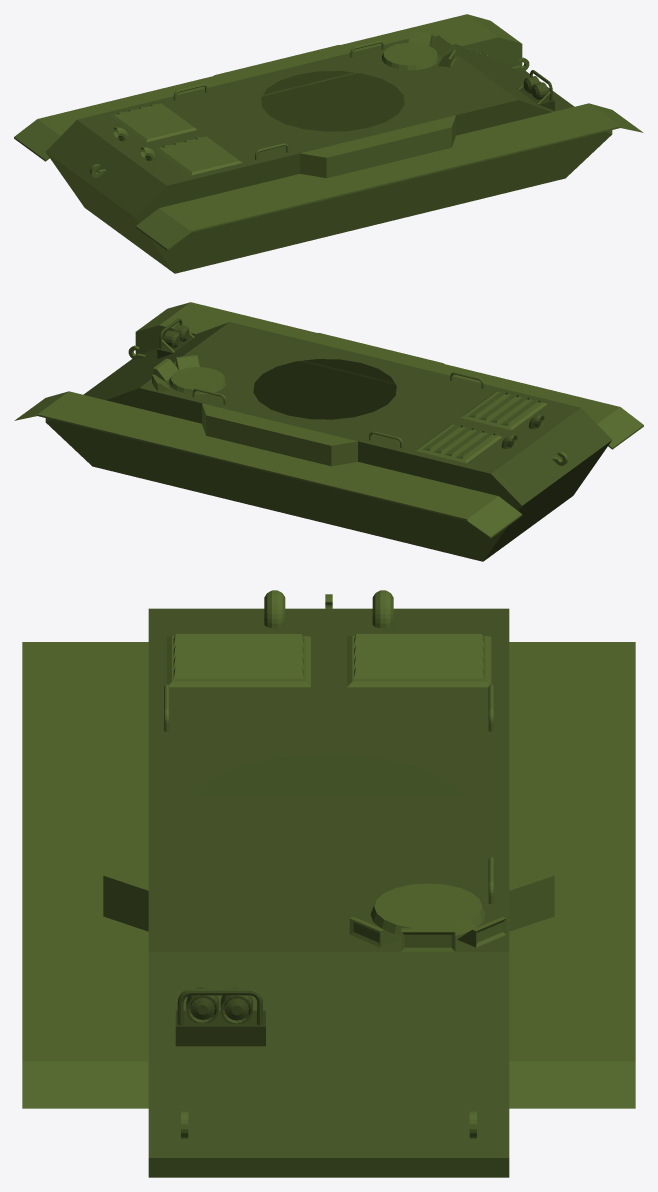
The model's file is body.obj.
3 renders of one model, top to bottom at view 1: azimuth 30°, elevation 25°; view 2: azimuth 150°, elevation 25°; view 3: azimuth 270°, elevation 25°, orthographic. The views are drawn at different scales.
Parts seen in each view (by area): view 1: alvaz3e2-.036; view 2: alvaz3e2-.036; view 3: alvaz3e2-.036.
Part boxes in pixels (box(x1,y1,x2,y2)): alvaz3e2-.036: box(14, 14, 643, 273); alvaz3e2-.036: box(14, 302, 643, 561); alvaz3e2-.036: box(22, 590, 635, 1177).
Bounding box in the file's own units: 6.1 × 1.26 × 3.4.
